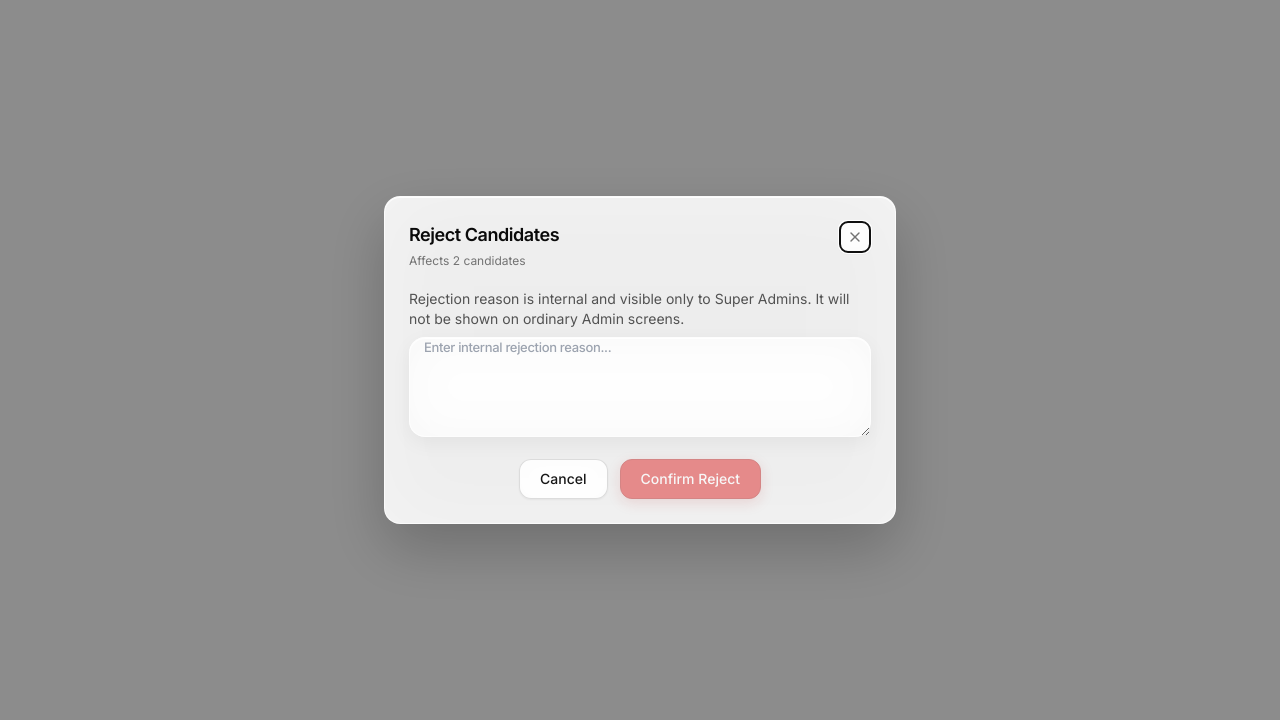
it: modal validation › blocks reject submit until reason is long enough
Expected: the button "Confirm Reject" is disabled, [620,459,761,499]
Type "ab" into the text box labelled "Enter internal rejection reason..." at (640, 387), box [409,337,871,437]
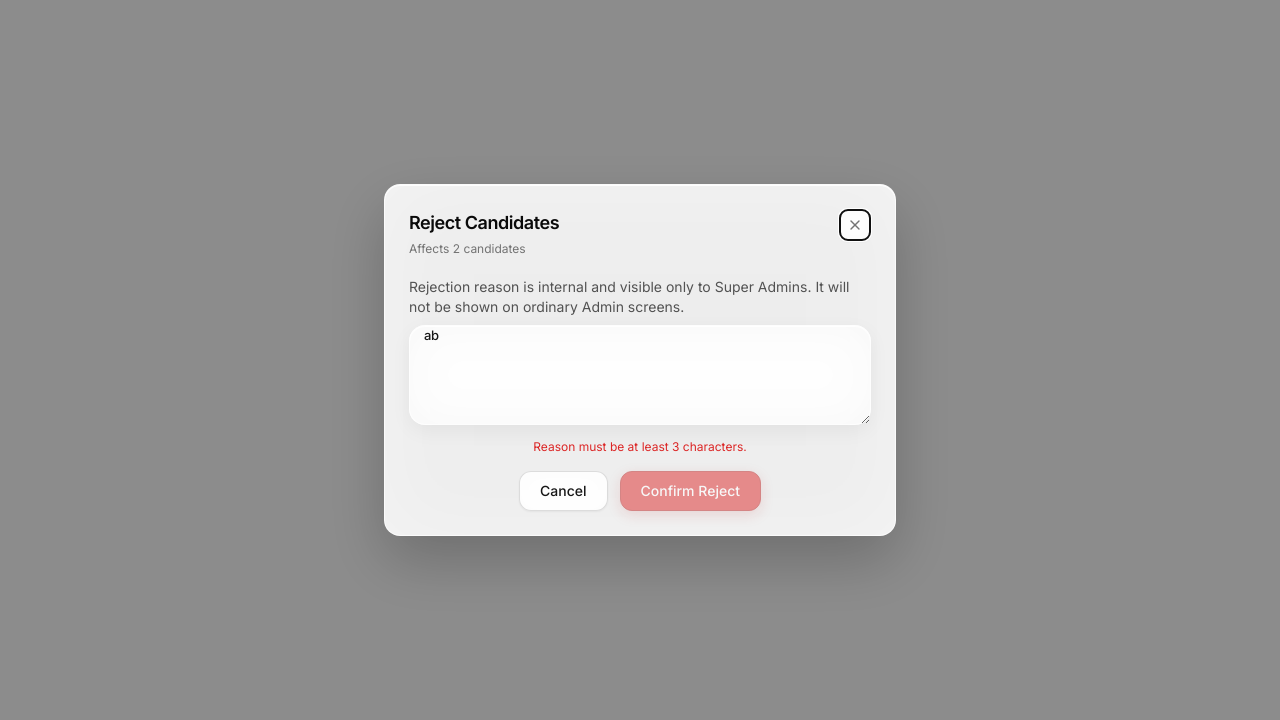
Expected: the button "Confirm Reject" is disabled, [620,471,761,511]
Replace the text in the text box named "internal rejection reason" with "Not a fit" at (640, 375), box [409,325,871,425]
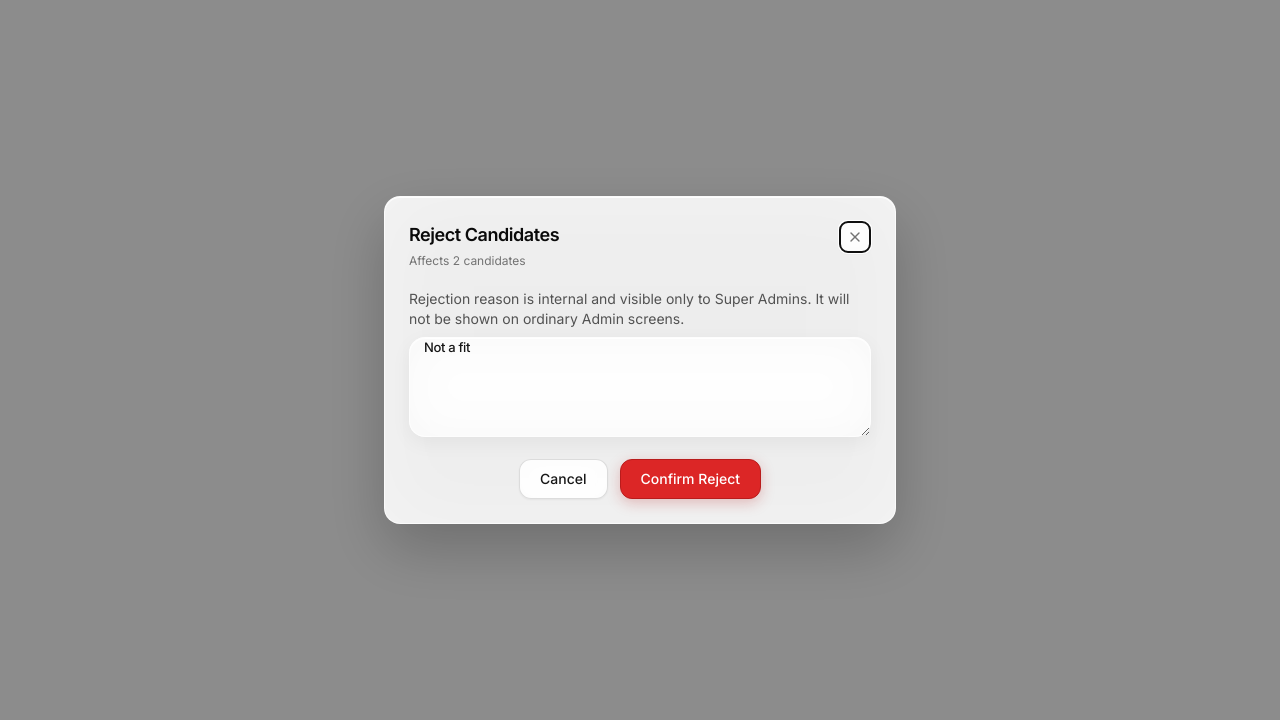
Result: the button "Confirm Reject" is enabled at [620,459,761,499]
